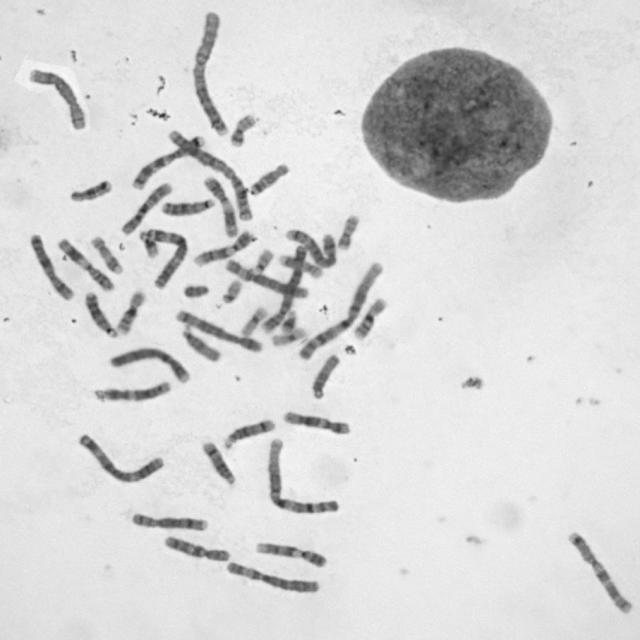A1: (295, 259, 385, 362), (264, 434, 342, 517)
A2: (163, 126, 254, 224), (188, 8, 231, 139)
A3: (73, 429, 167, 486), (138, 225, 190, 289)
B4: (258, 242, 310, 335), (106, 342, 192, 384)
B5: (172, 306, 264, 354), (282, 225, 339, 269)
C10: (117, 179, 174, 237), (160, 533, 232, 563)
C11: (54, 236, 115, 293), (200, 174, 240, 238)
C12: (91, 378, 176, 403), (279, 410, 351, 437)
C6: (222, 256, 310, 300), (222, 558, 322, 596)
C7: (563, 527, 635, 616), (128, 130, 206, 191)
C8: (26, 64, 88, 132), (127, 509, 210, 533)
C9: (189, 227, 258, 268), (252, 538, 329, 570)
D13: (82, 288, 118, 339), (159, 195, 215, 217)
D14: (221, 415, 276, 451), (198, 438, 237, 487)
D15: (179, 322, 223, 364), (308, 350, 342, 401)
E16: (350, 294, 390, 342), (114, 286, 147, 336)
E17: (88, 232, 124, 276), (276, 250, 324, 280)
E18: (245, 160, 291, 197), (66, 177, 115, 203)
F19: (238, 304, 270, 337), (268, 324, 309, 347)
F20: (227, 110, 259, 148), (334, 211, 362, 252)
G21: (137, 228, 161, 260), (278, 306, 298, 334)
G22: (249, 246, 276, 274), (219, 276, 243, 304)
X: (27, 231, 75, 303)
Y: (181, 281, 211, 300)
